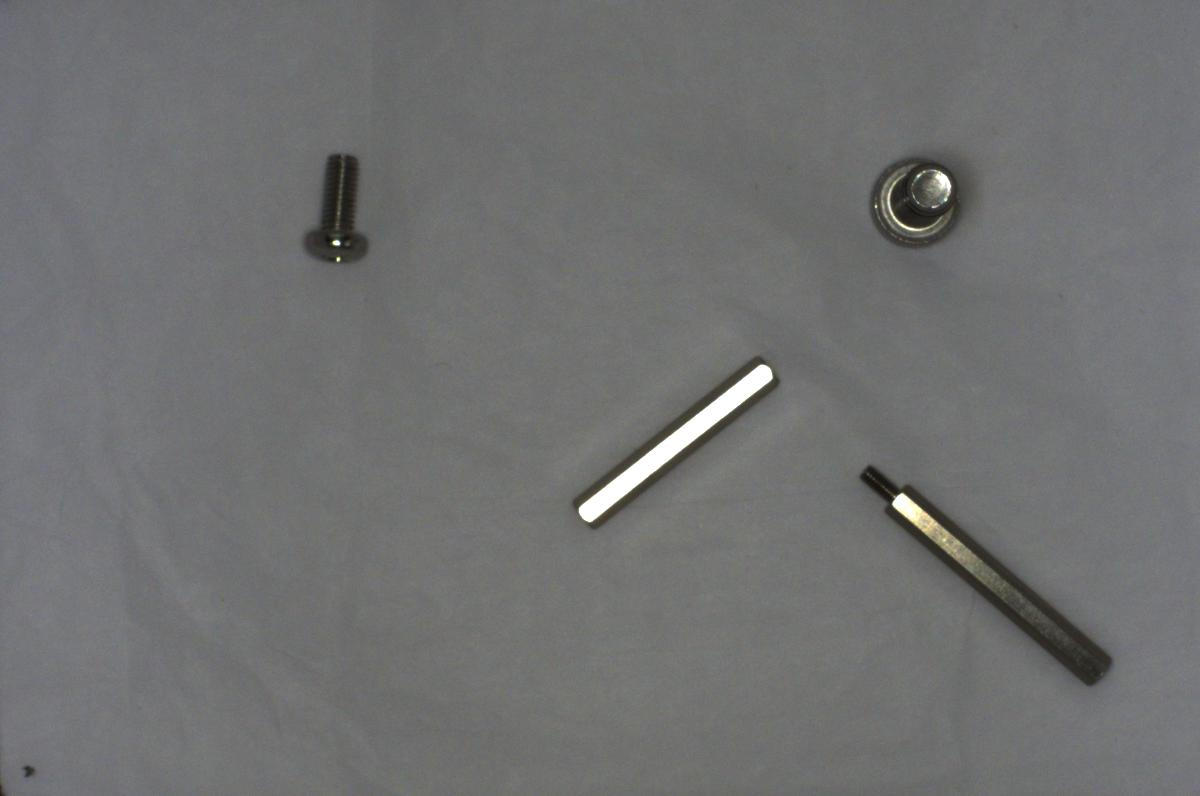Double hexagonal column: (565, 350, 790, 538)
Hexagon screw: (867, 153, 968, 250)
Hexagonal steel column: (858, 455, 1117, 689)
Round head screw: (297, 142, 374, 272)
